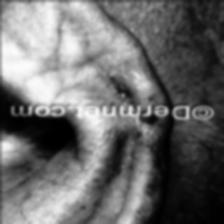Potentially Malignant Skin Tumors: (74, 60, 156, 150)
